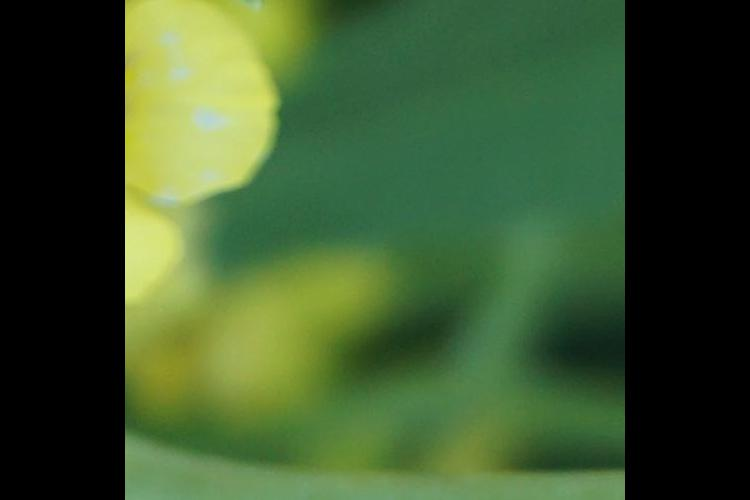yellow: (127, 1, 292, 303)
